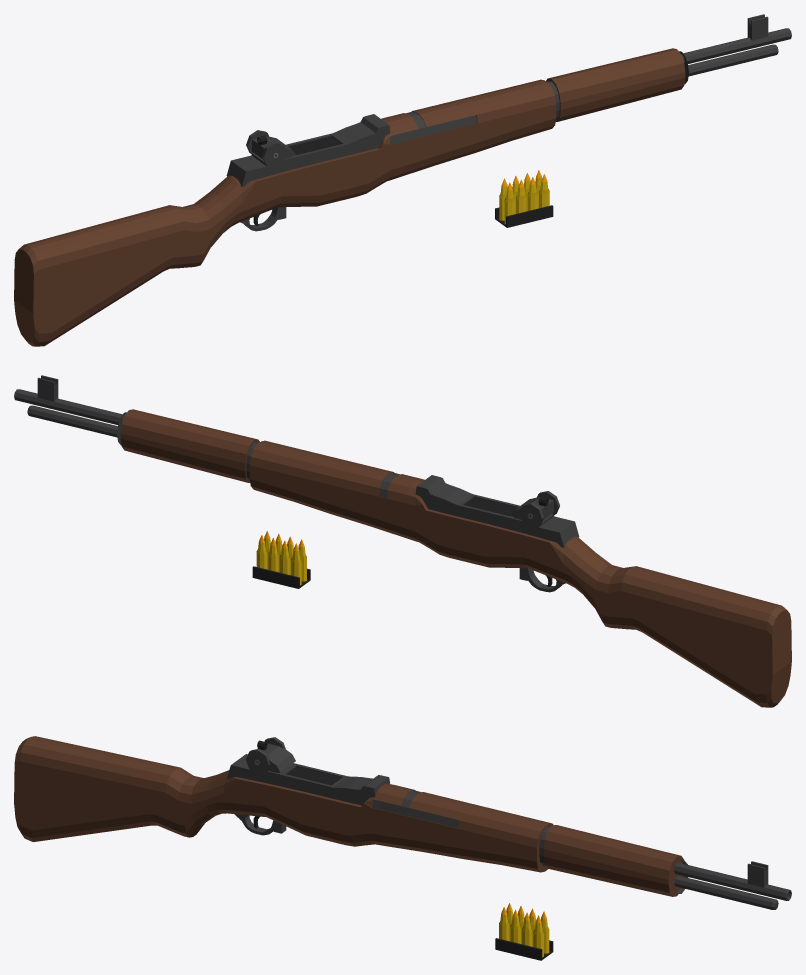
The model's file is m1garand.fbx.
3 views of the same model, one above another, from view 1: azimuth 30°, elevation 25°; view 2: azimuth 150°, elevation 25°; view 3: azimuth 330°, elevation 25° (orthographic).
Visible parts, largest first — view 1: main, mag solo; view 2: main, mag solo; view 3: main, mag solo, mag.
Part boxes in pixels (<box>): main: <box>14,14,791,346</box>; mag solo: <box>495,170,553,227</box>; main: <box>14,375,791,707</box>; mag solo: <box>252,531,310,588</box>; main: <box>14,736,791,909</box>; mag solo: <box>495,903,553,960</box>; mag: <box>286,766,341,785</box>.
Bounding box in the file's own units: 200 × 38.22 × 8.71.
